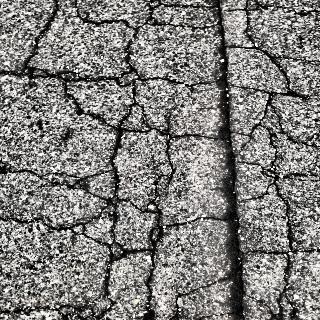crack: (12, 8, 310, 311)
